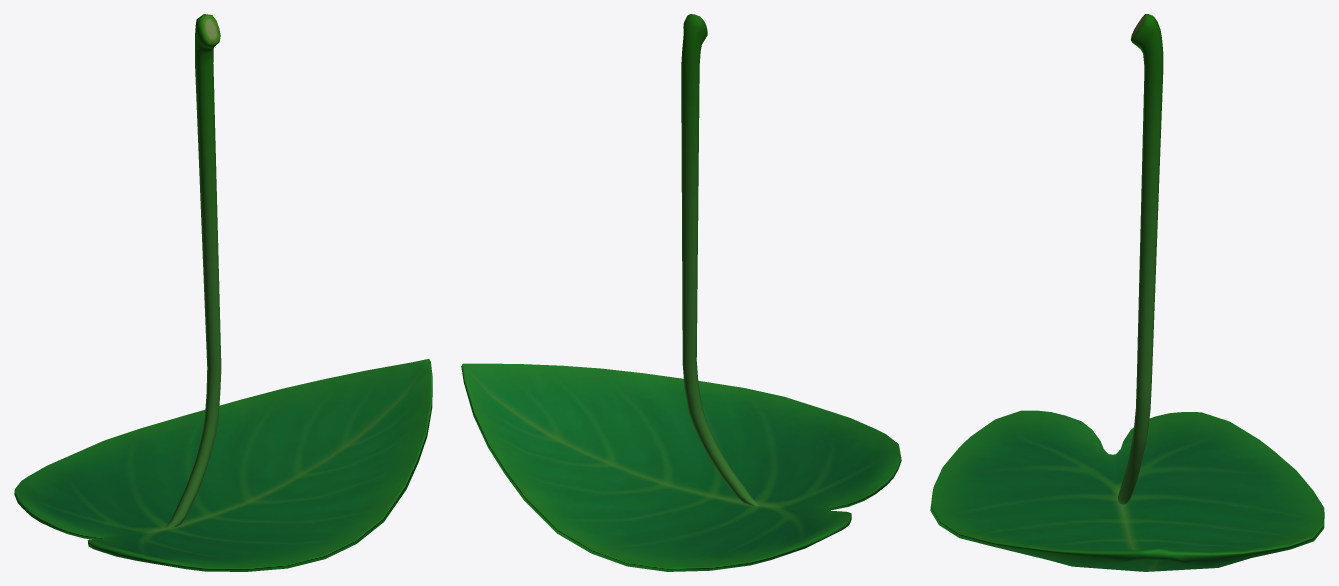
File: UmbrellaLeaf0.glb
The picture shows the model from 3 angles, left to right: view 1: azimuth 30°, elevation 25°; view 2: azimuth 150°, elevation 25°; view 3: azimuth 270°, elevation 25°; orthographic projection. The views are drawn at different scales.
Visible parts, largest first — view 1: Pole__mUmbrella; view 2: Pole__mUmbrella; view 3: Pole__mUmbrella.
Boxes of the visible parts, x1=… form: Pole__mUmbrella: x1=14, y1=14, x2=432, y2=571; Pole__mUmbrella: x1=461, y1=14, x2=901, y2=571; Pole__mUmbrella: x1=930, y1=14, x2=1324, y2=571.
Size of the model in its own units: 13.57 by 16.44 by 11.34.
1 material, 1 textured.
